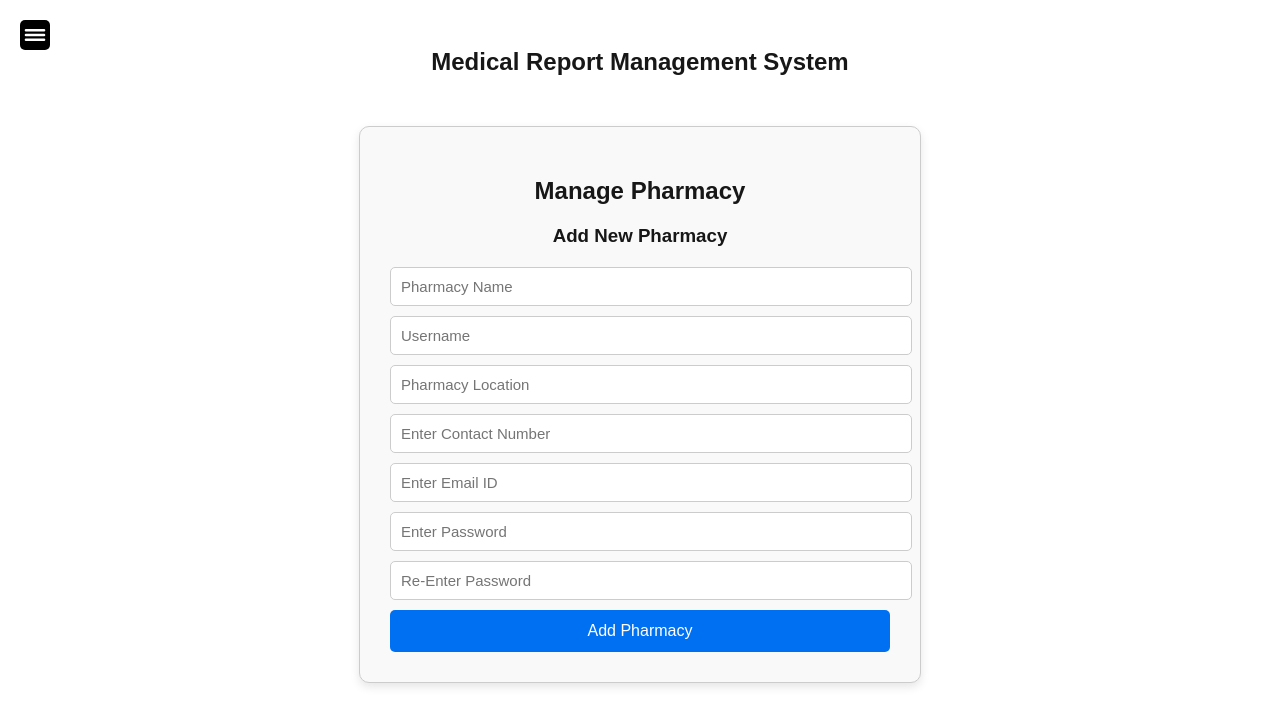
it: ManagePharmacy Component › shows password mismatch error
In the password field with placeholder "Enter Password": (651, 531) 390,512 -> 912,551, type "password123"
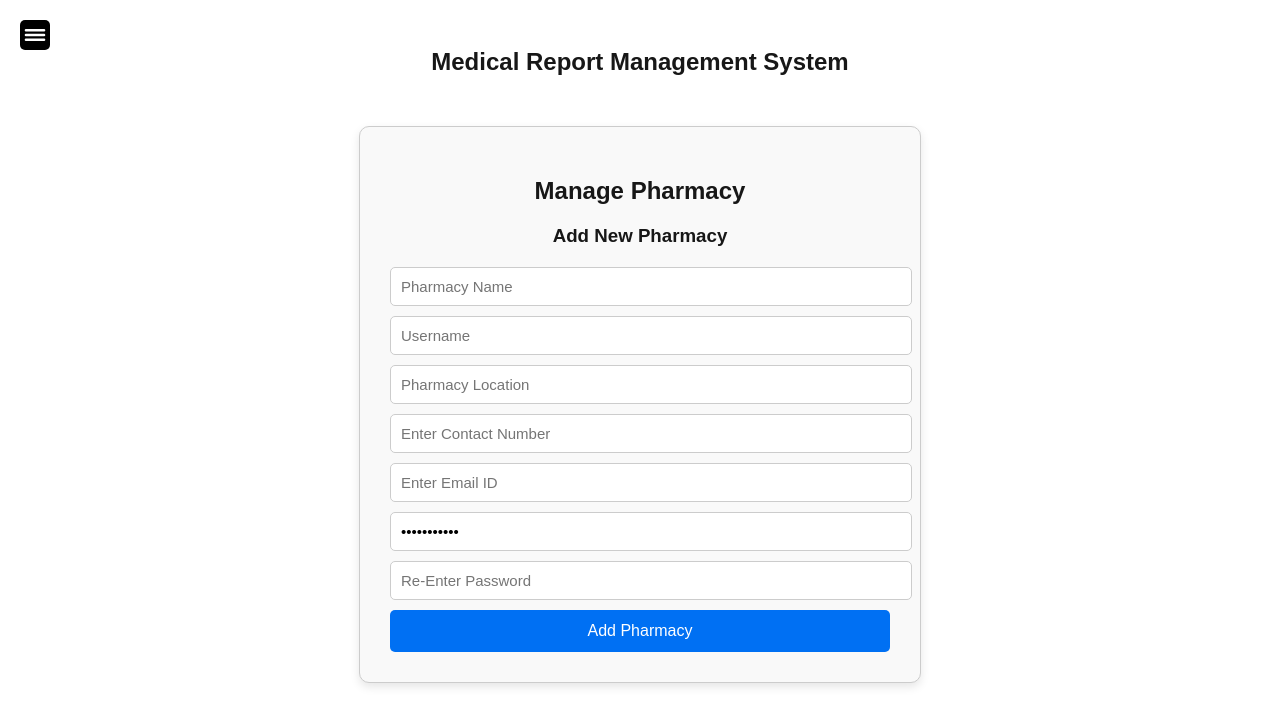
In the password field with placeholder "Re-Enter Password": (651, 580) 390,561 -> 912,600, type "wrongPassword"
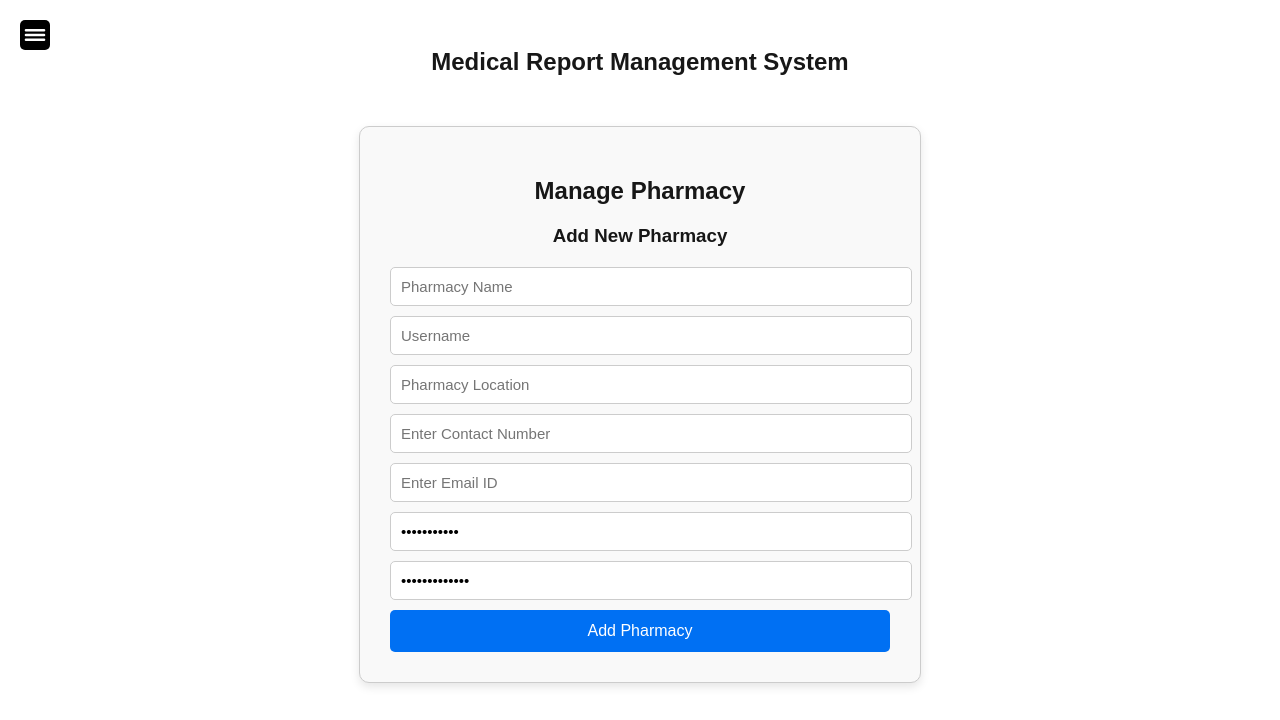
Click the button "Add Pharmacy": (640, 631) 390,610 -> 890,652
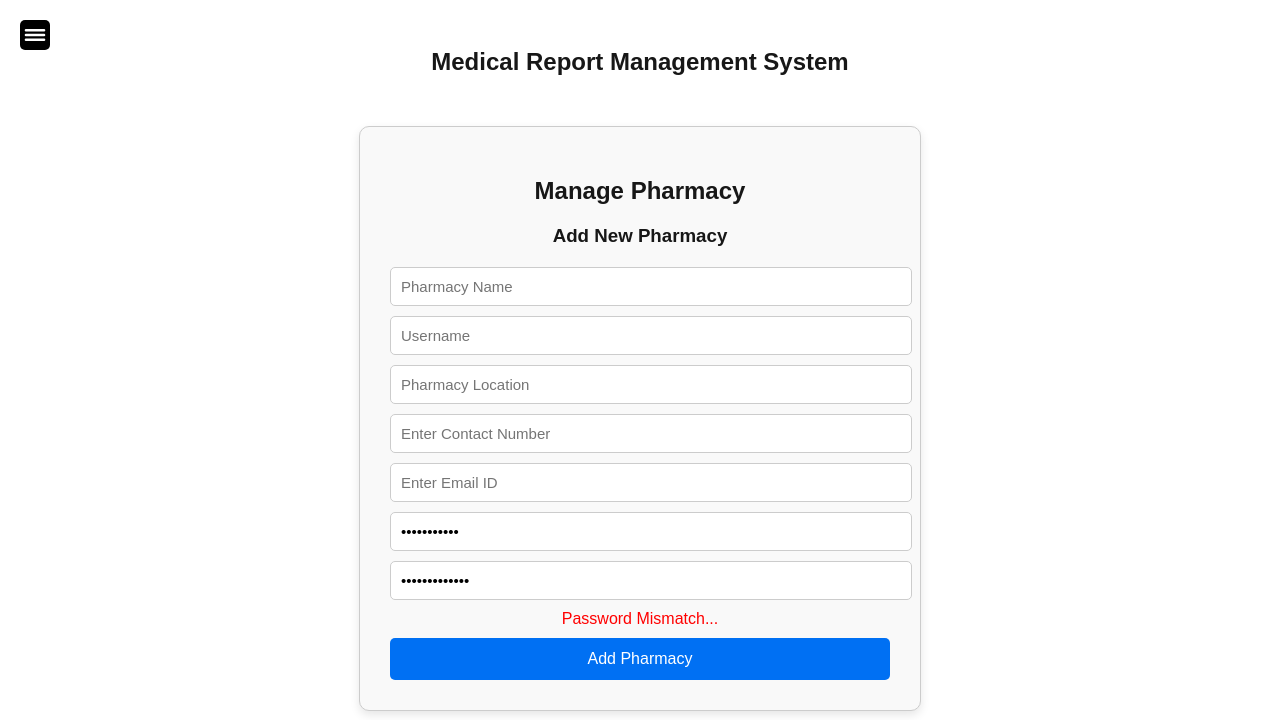
Expected: the text "Password Mismatch..." is shown, 562,610 -> 718,627
